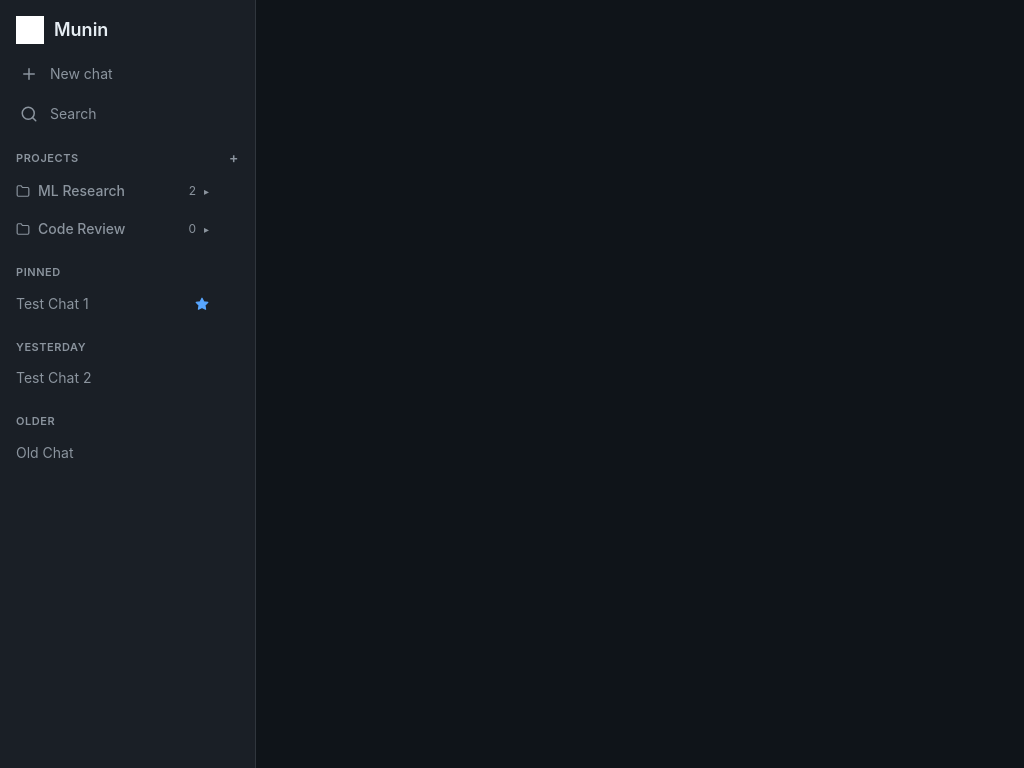
Sidebar › search overlay opens on Search click
This screenshot has width=1024, height=768.
Step 1. Click the button "Search" → (128,114), box [12,96,243,132]
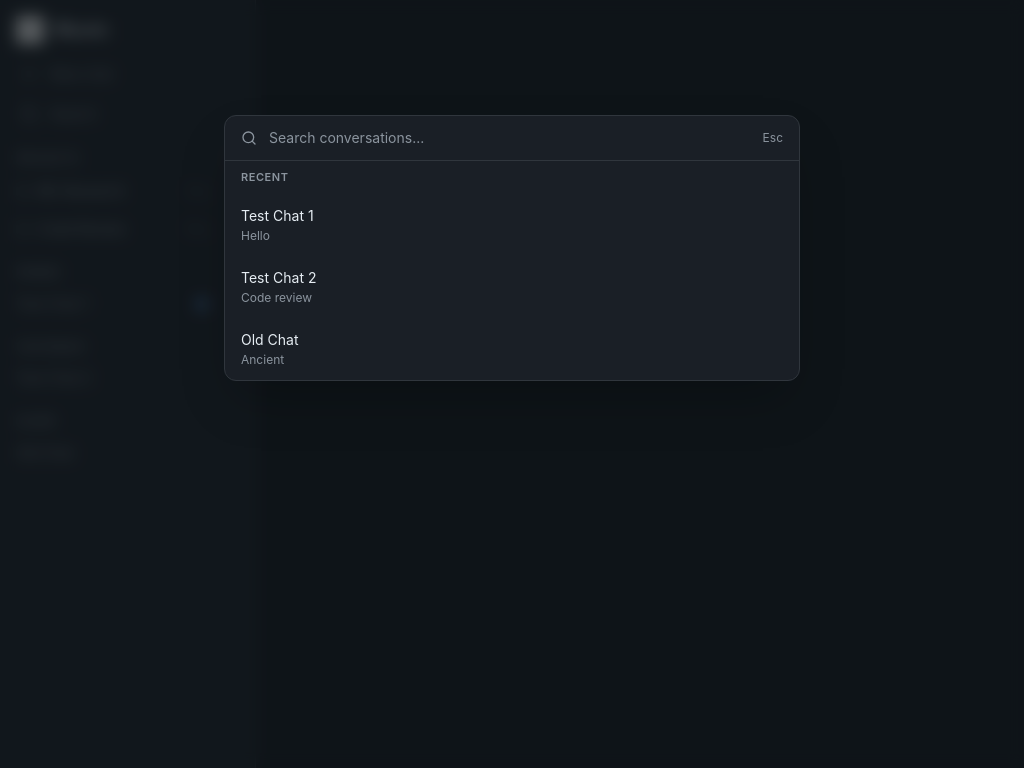
Expected: the field with placeholder "Search conversations..." is shown, [269,128,751,148]
